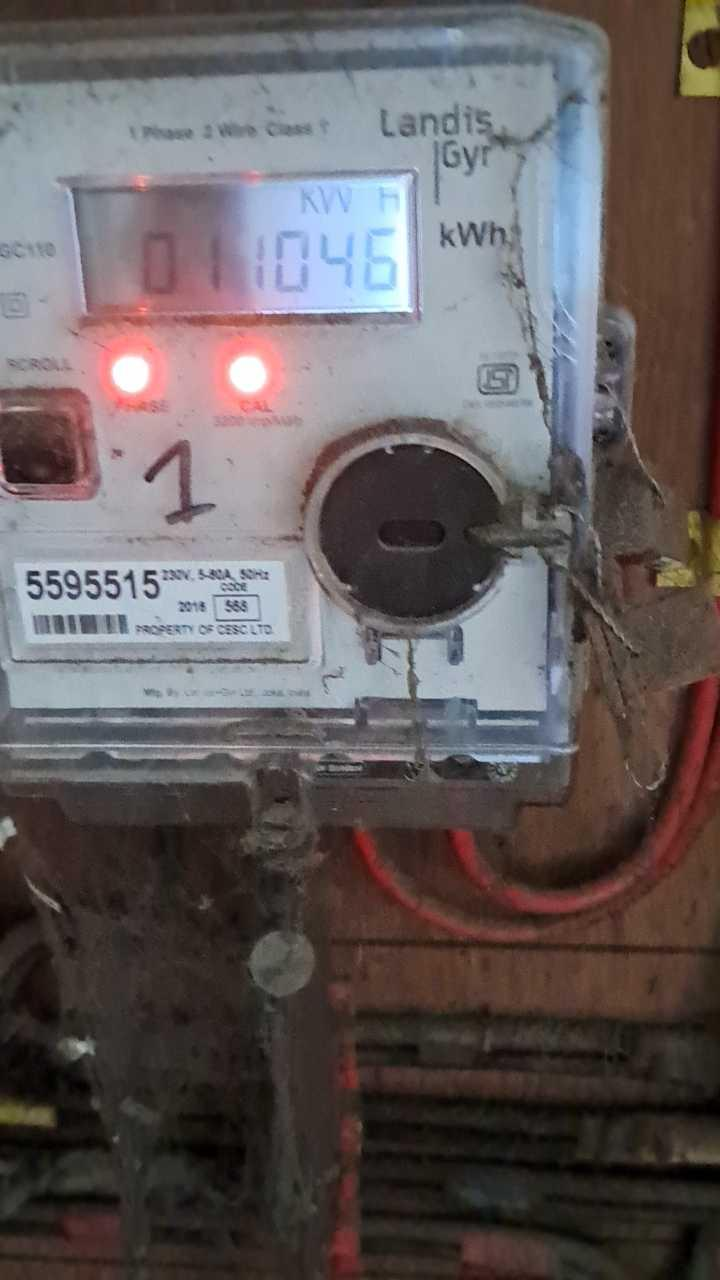meter_readings: (120, 226, 410, 298)
serial_number: (22, 569, 164, 605)
